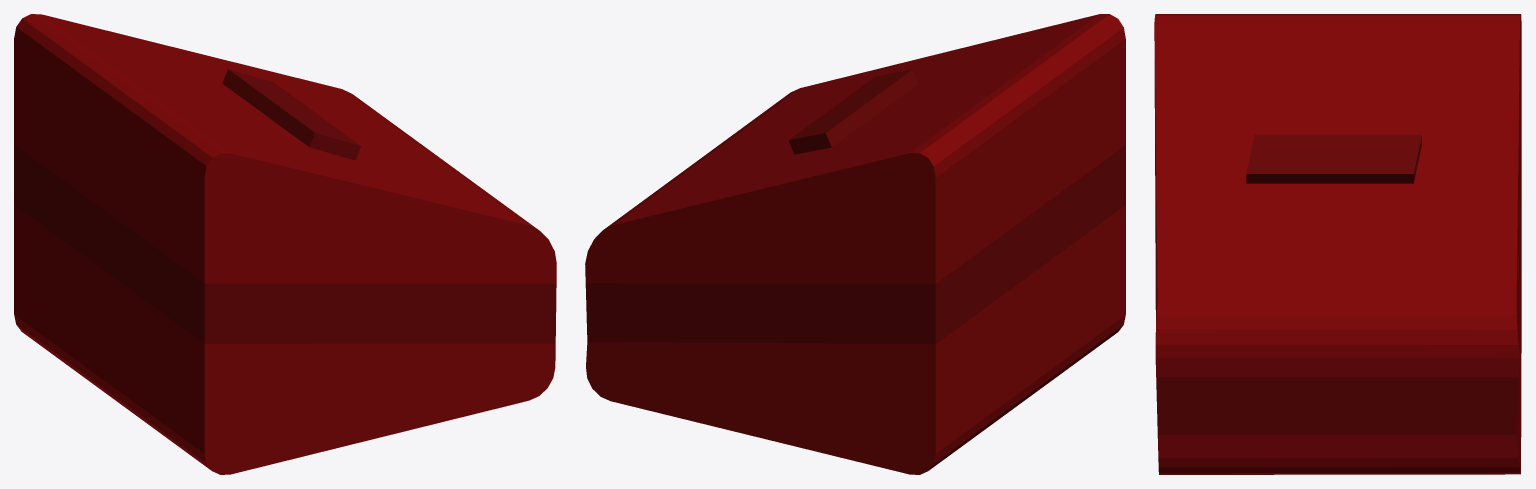
Rendered from Cache2.fbx.
3 renders of one model, left to right at view 1: azimuth 30°, elevation 25°; view 2: azimuth 150°, elevation 25°; view 3: azimuth 270°, elevation 25°, orthographic. The views are drawn at different scales.
Parts seen in each view (by area): view 1: Cube.006; view 2: Cube.006; view 3: Cube.006.
Part boxes in pixels (<box>): Cube.006: <box>14,14,556,474</box>; Cube.006: <box>585,14,1125,474</box>; Cube.006: <box>1154,14,1521,474</box>.
Bounding box in the file's own units: 220 × 194 × 207.
